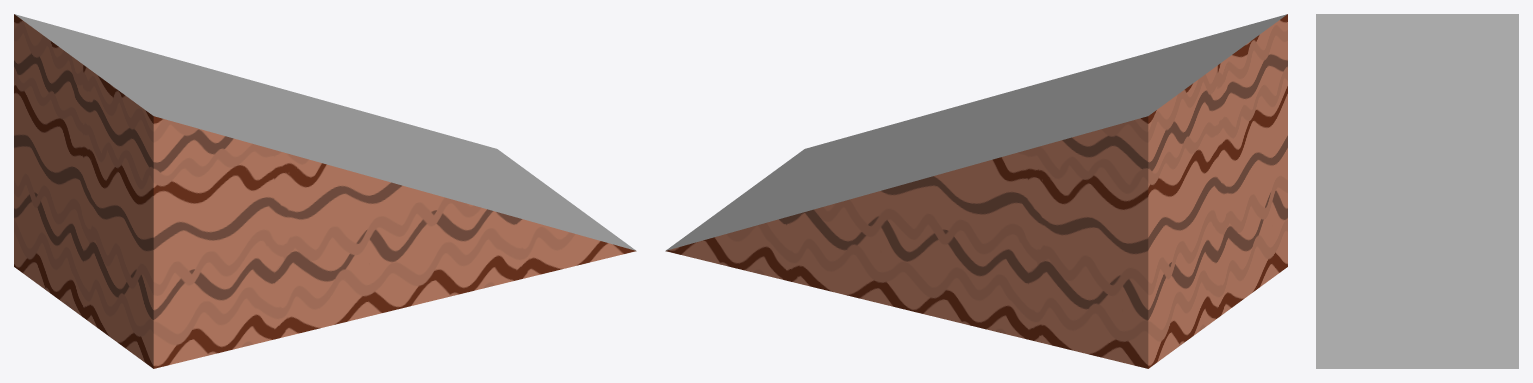
Rendered from a_z2_ground_06.fbx.
3 renders of one model, left to right at view 1: azimuth 30°, elevation 25°; view 2: azimuth 150°, elevation 25°; view 3: azimuth 270°, elevation 25°, orthographic. The views are drawn at different scales.
Parts seen in each view (by area): view 1: a_z2_ground_06; view 2: a_z2_ground_06; view 3: a_z2_ground_06.
Part boxes in pixels (x1=…): a_z2_ground_06: x1=14, y1=14, x2=636, y2=368; a_z2_ground_06: x1=665, y1=14, x2=1287, y2=368; a_z2_ground_06: x1=1316, y1=14, x2=1518, y2=368.
Bounding box in the file's own units: 600 × 300 × 300.
Materials: 2 (1 with a texture image).
